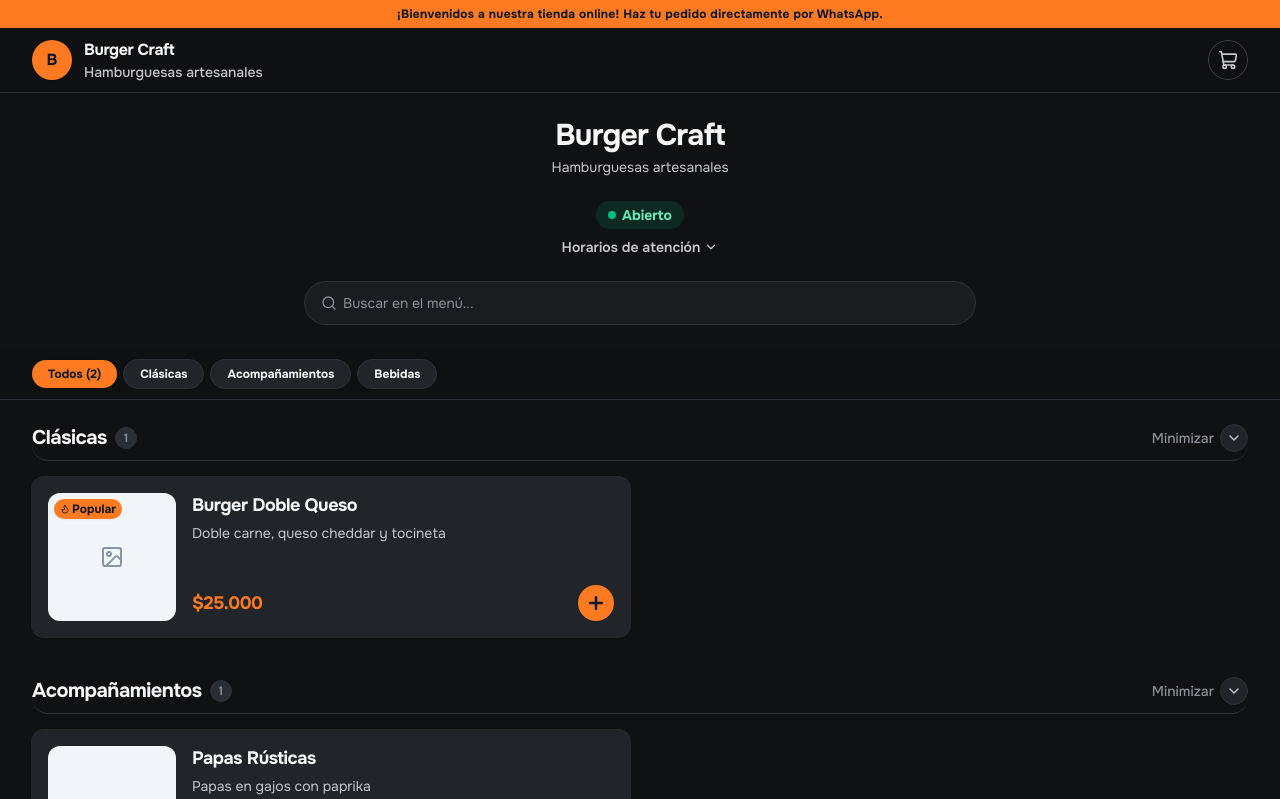
Test case: Storefront Navigation & Cart / Checkout Flow › navigates correctly: Cart -> Checkout -> Back to Cart -> Seguir comprando -> Catalog
Expected: the search field with placeholder "Buscar en el menú..." is shown, [337,281,971,325]
Open Cart from Navbar button
Click the button named "Ver orden" at {"x": 1228, "y": 60}, box [1208,40,1248,80]
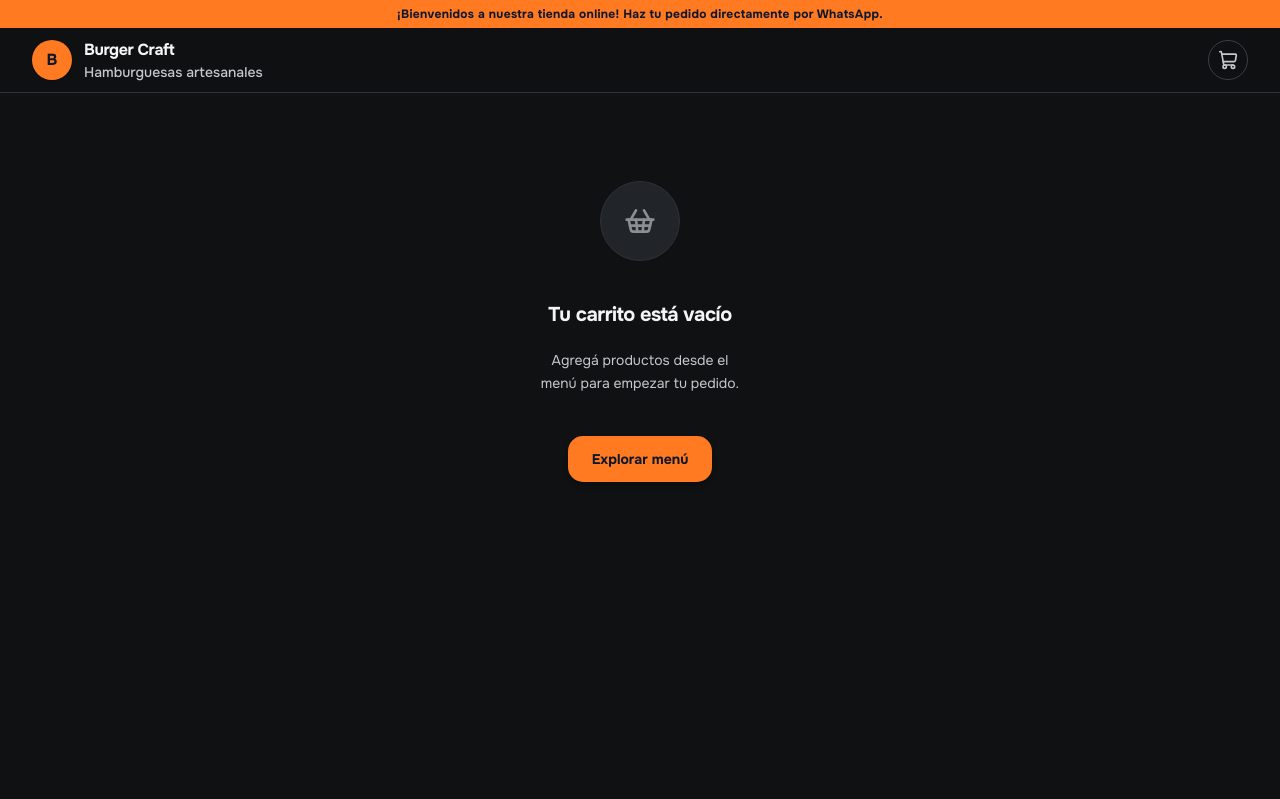
Now the text "Tu carrito está vacío" is shown, box [548,301,732,329]
Clicking "Explorar menú" takes user back to catalog
Click the button "Explorar menú" at {"x": 640, "y": 458}, box [567,434,713,482]
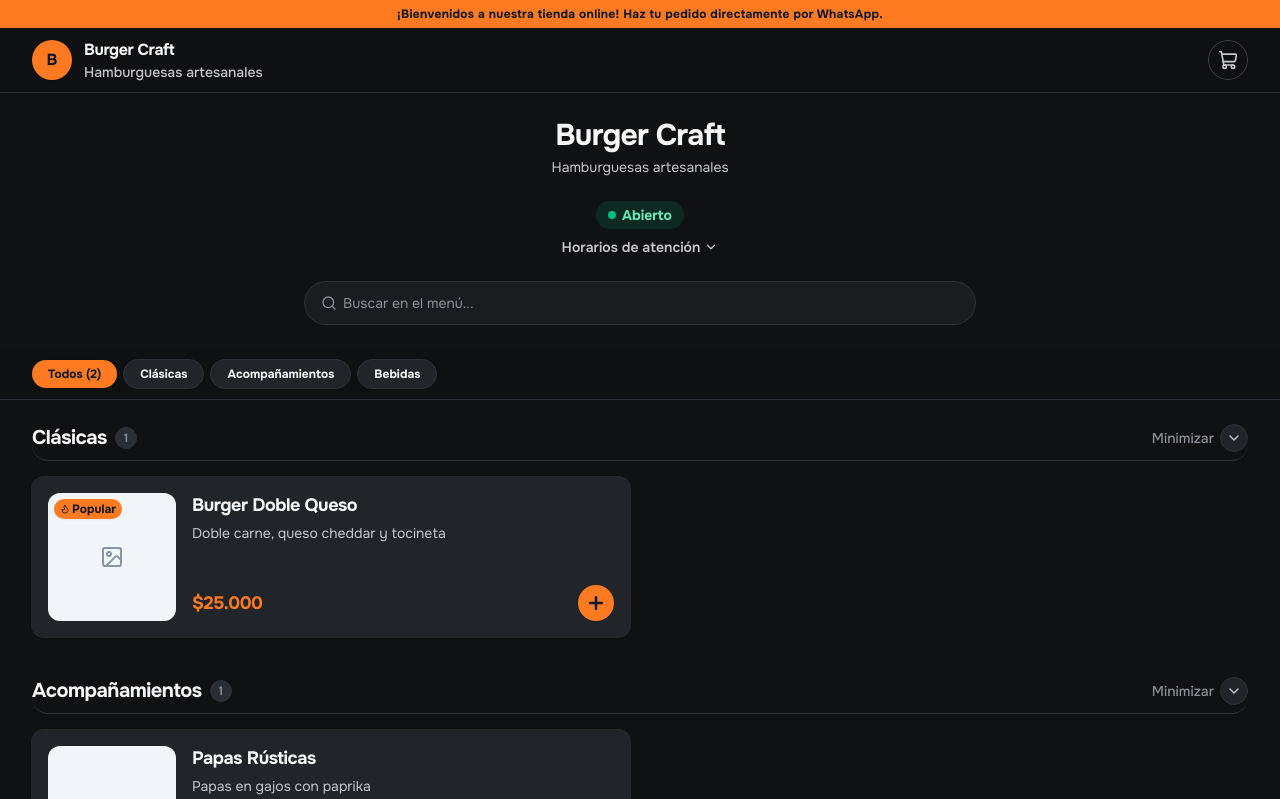
Now the search field with placeholder "Buscar en el menú..." is shown, box [337,281,971,325]
